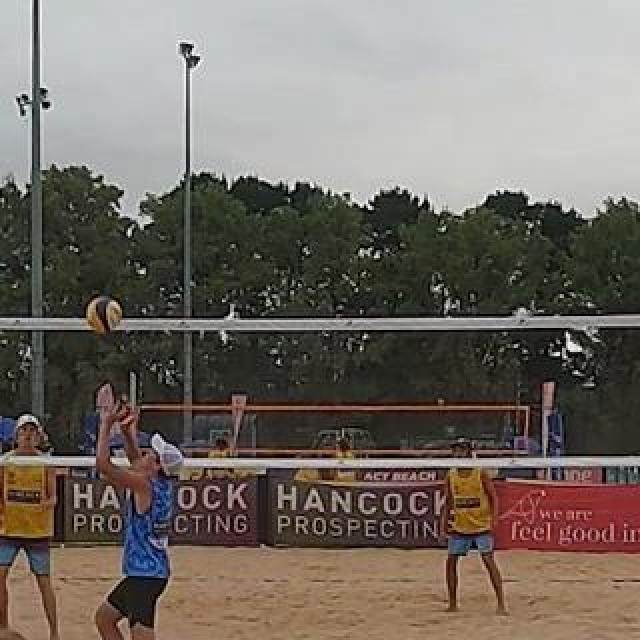volleyball: (86, 295, 122, 329)
